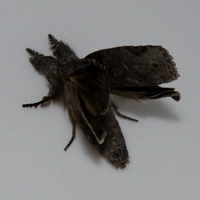insect: (23, 34, 179, 167)
